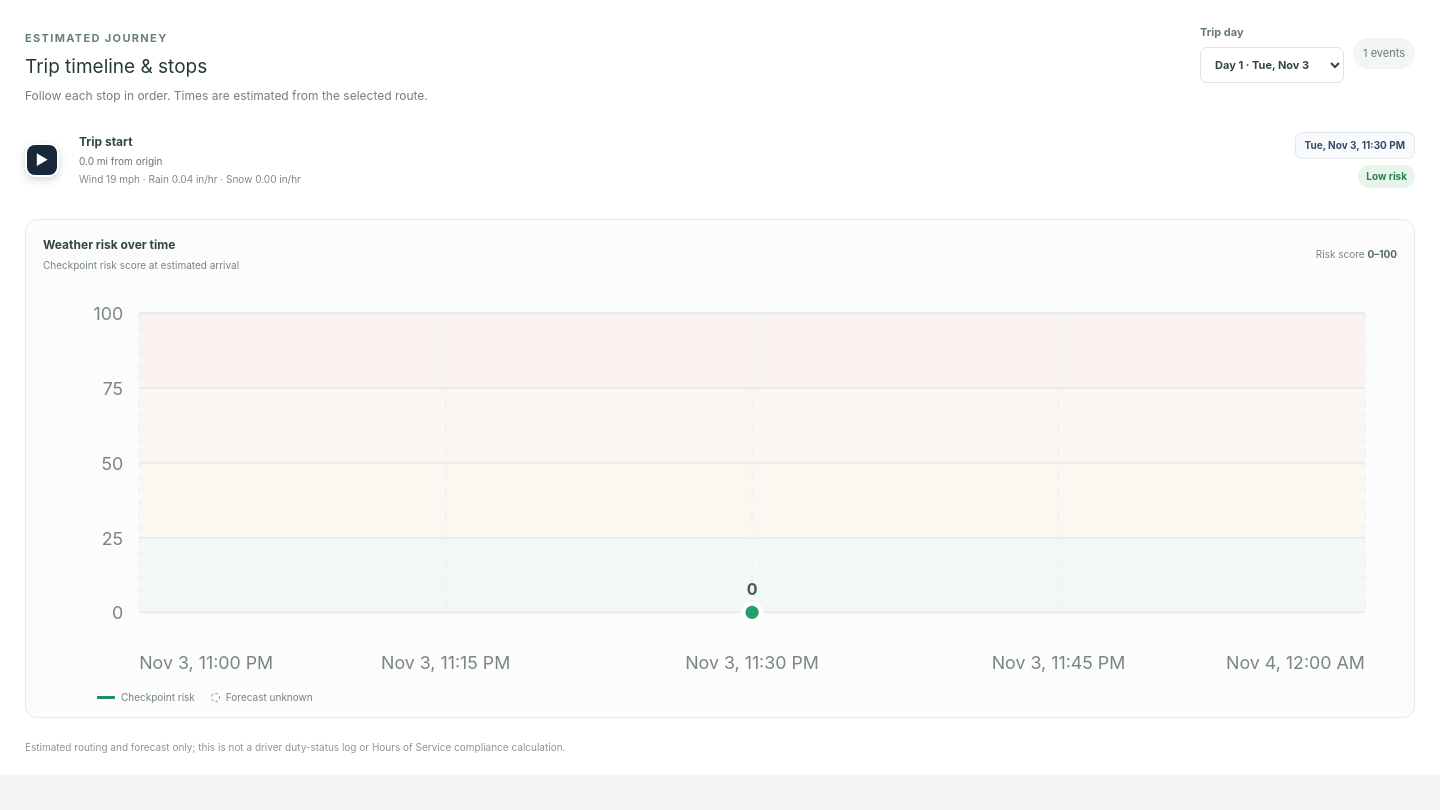
trip activity timeline UI › lets the user switch days for trips that span midnight
Select "Day 2 · Wed, Nov 4" in the dropdown labelled "Trip day" at (1272, 64), box [1200,46,1344,82]
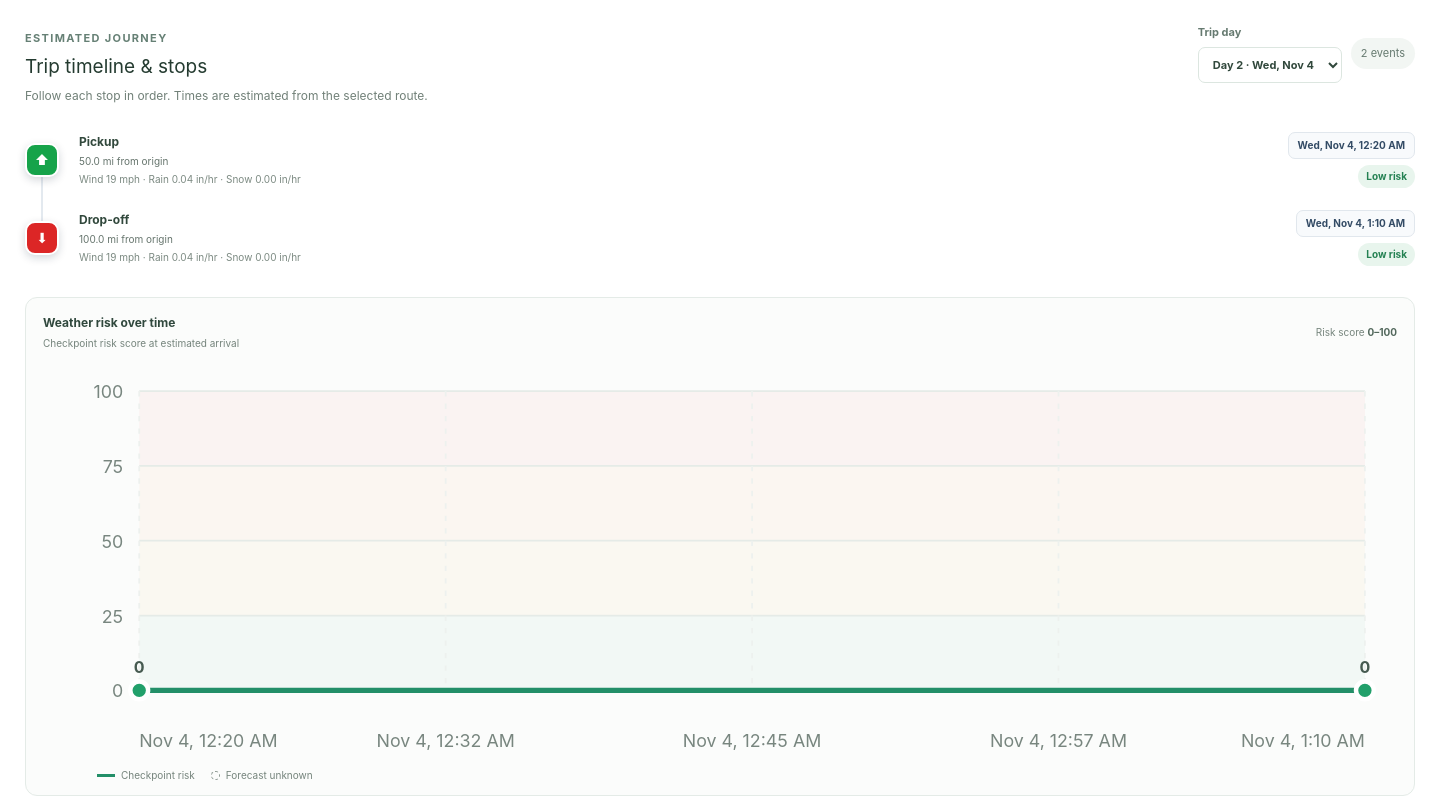
Result: the text "Drop-off" is shown at [79,211,129,229]
